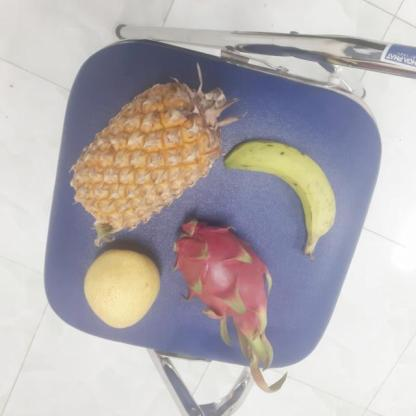banana: (226, 138, 341, 253)
pear: (84, 246, 164, 328)
pineapple: (79, 84, 228, 234)
pitaya: (172, 219, 274, 326)
